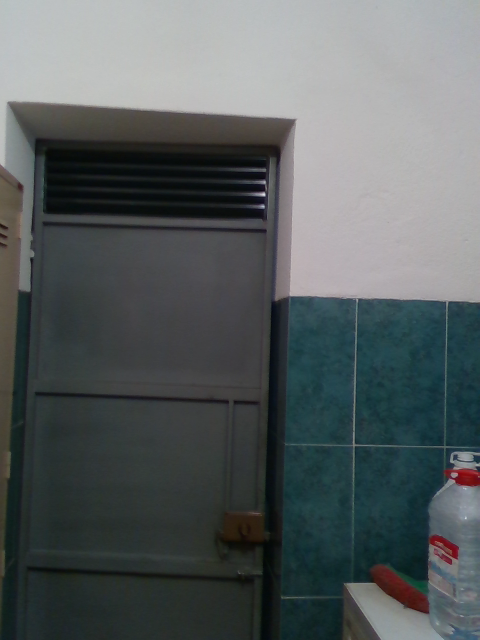closed: (0, 95, 294, 638)
